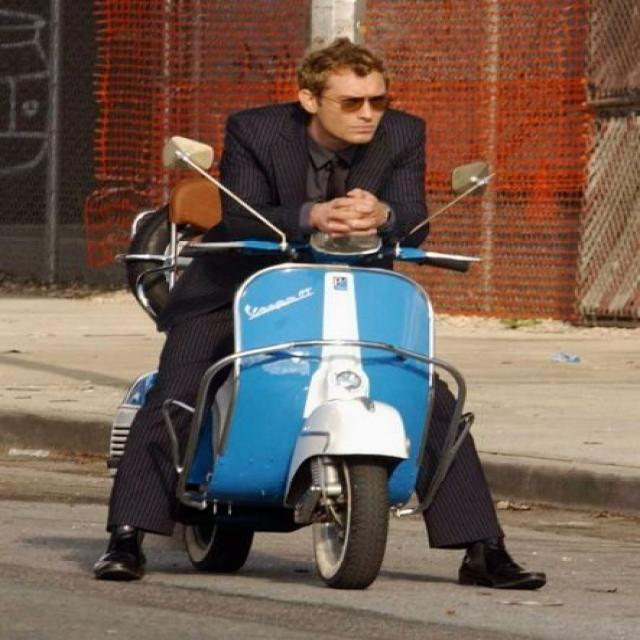Not Wearing Helmet: (239, 28, 502, 219)
